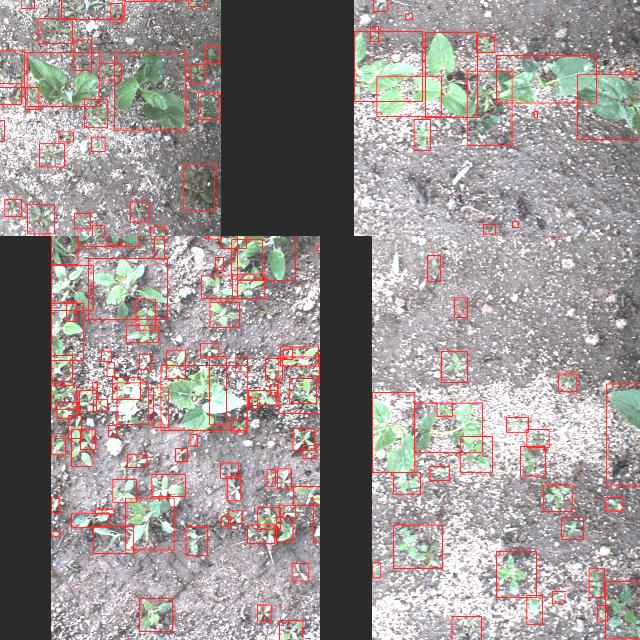crop: (160, 364, 246, 430), (114, 51, 186, 129), (353, 31, 421, 101), (496, 56, 596, 102), (425, 32, 477, 116), (577, 73, 640, 138), (26, 52, 98, 106), (412, 402, 482, 452), (606, 383, 640, 485), (372, 392, 414, 472), (376, 75, 440, 115), (116, 382, 148, 424)
weed: (87, 258, 167, 318), (466, 70, 512, 144), (124, 497, 174, 549), (237, 236, 295, 280), (278, 355, 320, 412), (392, 524, 442, 568), (605, 580, 640, 637), (50, 264, 92, 310), (50, 302, 82, 360), (496, 551, 536, 597), (183, 163, 214, 209), (230, 239, 262, 279), (208, 356, 226, 424), (60, 0, 123, 19), (459, 436, 491, 472), (92, 526, 134, 552), (138, 598, 172, 630), (0, 49, 24, 86), (26, 203, 54, 233), (70, 428, 92, 466), (200, 275, 238, 297), (232, 272, 264, 298), (38, 18, 72, 42), (542, 484, 572, 511), (441, 351, 467, 382), (280, 346, 318, 366), (451, 615, 481, 640), (151, 474, 185, 496), (50, 236, 77, 263), (209, 302, 239, 326), (520, 445, 544, 475), (50, 384, 76, 410), (185, 526, 207, 556), (152, 387, 168, 427), (84, 99, 106, 128), (290, 378, 316, 402), (135, 298, 155, 329), (112, 377, 140, 399), (392, 471, 420, 493), (125, 324, 158, 342), (112, 478, 136, 502), (38, 144, 64, 166), (198, 92, 220, 118), (50, 355, 72, 381), (247, 524, 275, 544), (70, 512, 110, 526), (73, 39, 91, 70), (78, 236, 138, 245), (256, 507, 280, 529), (293, 485, 320, 504), (413, 118, 429, 150), (166, 349, 184, 377), (279, 619, 303, 640), (292, 428, 314, 450), (561, 517, 583, 539), (526, 594, 542, 624), (588, 568, 604, 596), (0, 82, 21, 103), (526, 428, 548, 448), (130, 201, 150, 221), (248, 390, 276, 404), (276, 517, 292, 541), (264, 358, 282, 378), (99, 63, 121, 79), (505, 416, 527, 432), (78, 390, 95, 410), (426, 255, 439, 281), (226, 476, 240, 500), (56, 402, 76, 418), (24, 87, 38, 109), (5, 198, 22, 216), (558, 374, 576, 391), (476, 36, 494, 52), (292, 562, 308, 580), (220, 462, 238, 478), (68, 414, 80, 438), (190, 63, 204, 83), (277, 468, 291, 488), (80, 429, 94, 449), (429, 466, 449, 480), (220, 236, 245, 247), (74, 212, 90, 228), (204, 46, 220, 62), (50, 436, 64, 454), (110, 2, 122, 22), (126, 454, 146, 466), (454, 297, 466, 317), (257, 604, 271, 620), (230, 418, 246, 432), (605, 496, 621, 510), (436, 402, 452, 416), (154, 236, 164, 258), (199, 344, 217, 356), (65, 301, 75, 321), (91, 137, 105, 151), (302, 444, 316, 458), (235, 356, 247, 372), (278, 506, 296, 516), (228, 510, 242, 522), (93, 399, 107, 411), (138, 354, 150, 368), (552, 590, 564, 604), (371, 0, 386, 11), (597, 604, 607, 620), (149, 226, 164, 236), (92, 224, 104, 236), (175, 448, 187, 460), (267, 468, 275, 486), (58, 131, 72, 141), (482, 223, 496, 233), (372, 562, 380, 578), (94, 508, 114, 514), (370, 26, 378, 40), (106, 362, 114, 376), (50, 498, 58, 512), (215, 256, 223, 270), (106, 424, 115, 436), (220, 516, 230, 526), (101, 350, 111, 360), (20, 0, 34, 7), (188, 0, 207, 5), (0, 119, 4, 140), (284, 349, 292, 359), (249, 398, 257, 408), (190, 434, 196, 446), (50, 530, 60, 536), (270, 384, 276, 394), (404, 13, 412, 19), (92, 381, 96, 393), (625, 68, 631, 74), (512, 221, 518, 227), (533, 110, 537, 118), (316, 244, 320, 249)
